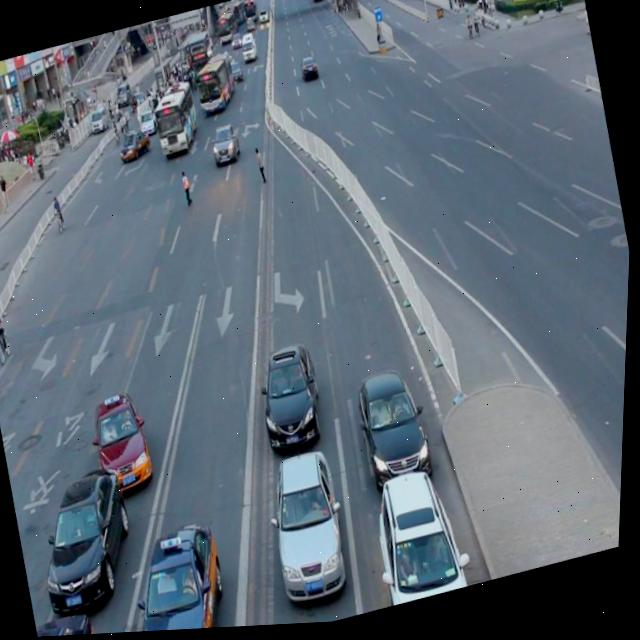car: (28, 458, 152, 619), (259, 442, 361, 610), (366, 460, 478, 612), (117, 512, 243, 634), (351, 366, 442, 500), (251, 335, 334, 457), (87, 384, 162, 497), (38, 602, 112, 638), (208, 123, 245, 169)
